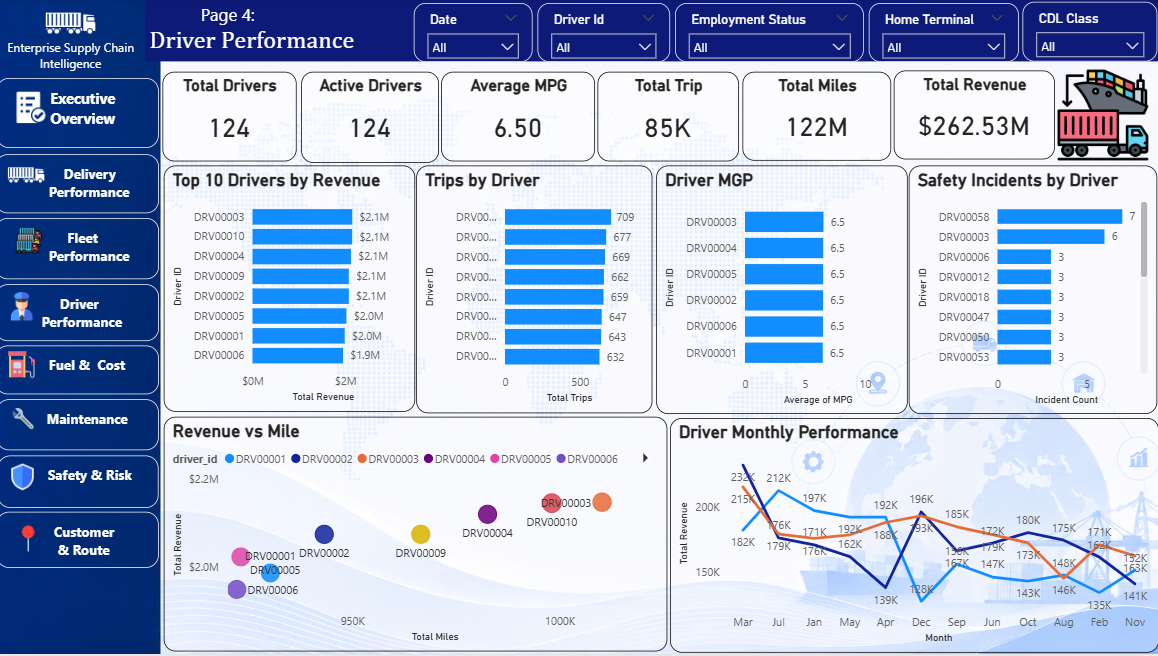

The dashboard page shown, as its layout file describes it:
{"tool":"powerbi","page":{"name":"Driver Performance","canvas":[1280,720],"ordinal":3},"visuals":[{"type":"slicer","fields":{"Values":["DimDrivers.employment_status"]},"box":[746.5,5.5,207.2,64.5],"z":0,"group":"g12"},{"type":"card","title":"Total Drivers","fields":{"Values":["All Measures.Total Drivers"]},"box":[183.9,81,146.8,98.8],"z":0,"group":"g10"},{"type":"group","id":"g1","title":"Group 1","box":[0,171.9,179.8,64.5],"z":0},{"type":"clusteredBarChart","title":"Top 10 Drivers by Revenue","fields":{"Category":["DimDrivers.driver_id"],"Y":["All Measures.Total Revenue"]},"box":[185.2,184.2,275.7,270.6],"z":0,"group":"g11"},{"type":"textbox","box":[2.7,502.6,177,57.6],"z":0,"group":"g4"},{"type":"image","box":[1.4,0,163.3,54.9],"z":1000,"group":"g3"},{"type":"slicer","fields":{"Values":["DimDrivers.driver_id"]},"box":[595.5,5.5,145.5,64.5],"z":1000,"group":"g12"},{"type":"card","title":"Average MPG","fields":{"Values":["All Measures.Average MPG"]},"box":[489.9,81,168.8,98.8],"z":1000,"group":"g10"},{"type":"group","id":"g2","title":"Group 3","box":[1.4,88.3,178.4,76.8],"z":1000},{"type":"clusteredBarChart","title":"Trips by Driver","fields":{"Category":["DimDrivers.driver_id"],"Y":["CountNonNull(FactLoadsTrips.raw_trips.trip_id)"]},"box":[462.4,183.9,259.6,271.8],"z":1000,"group":"g11"},{"type":"image","box":[10.9,510.8,38.4,30.2],"z":1000,"group":"g4"},{"type":"group","id":"g3","title":"Group 4","box":[1.4,0,163.3,87.8],"z":2000},{"type":"slicer","fields":{"Values":["DimDrivers.home_terminal"]},"box":[959.2,5.5,164.7,64.5],"z":2000,"group":"g12"},{"type":"textbox","box":[1.4,40.3,163.3,47.6],"z":2000,"group":"g3"},{"type":"card","title":"Total Miles","fields":{"Values":["All Measures.Total Miles"]},"box":[820.6,81,163.3,97.4],"z":2000,"group":"g10"},{"type":"clusteredBarChart","title":"Driver MGP","fields":{"Category":["DimDrivers.driver_id"],"Y":["All Measures.Average MPG"]},"box":[726.3,183.9,275.7,273.1],"z":2000,"group":"g11"},{"type":"slicer","fields":{"Values":["DimDrivers.cdl_class"]},"box":[1128,4.1,148.2,65.9],"z":3000,"group":"g12"},{"type":"card","title":"Active Drivers","fields":{"Values":["All Measures.Active Drivers"]},"box":[336.2,81,150.9,100.2],"z":3000,"group":"g10"},{"type":"group","id":"g4","title":"Group 7","box":[2.7,502.6,177,57.6],"z":3000},{"type":"textbox","box":[1.4,564.4,178.4,61.7],"z":3000,"group":"g6"},{"type":"slicer","fields":{"Values":["Dim_Date.Date Hierarchy.Date","Dim_Date.Date Hierarchy.Year","Dim_Date.Date Hierarchy.Month Name"]},"box":[459.7,5.5,130.4,64.5],"z":4000,"group":"g12"},{"type":"card","title":"Total Trip","fields":{"Values":["All Measures.Total Trips"]},"box":[661.4,81,155.1,98.8],"z":4000,"group":"g10"},{"type":"group","id":"g5","title":"Group 8","box":[1.4,440.9,178.4,56.3],"z":4000},{"type":"textbox","box":[1.4,440.9,178.4,56.3],"z":4000,"group":"g5"},{"type":"card","title":"Total Revenue","fields":{"Values":["All Measures.Total Revenue"]},"box":[986.6,79.6,177,97.4],"z":5000,"group":"g10"},{"type":"textbox","box":[0,382,179.8,53.4],"z":5000,"group":"g7"},{"type":"group","id":"g6","title":"Group 9","box":[1.4,564.4,178.4,61.7],"z":5000},{"type":"textbox","box":[1.4,88.3,178.4,76.8],"z":6000,"group":"g2"},{"type":"textbox","box":[0,314.2,179.8,62.5],"z":6000,"group":"g9"},{"type":"group","id":"g7","title":"Group 10","box":[0,380.5,179.8,54.9],"z":6000},{"type":"group","id":"g8","title":"Group 11","box":[0,241.8,179.8,67.2],"z":7000},{"type":"group","id":"g9","title":"Group 12","box":[0,314.2,179.8,62.5],"z":8000},{"type":"textbox","box":[164.7,0,1115.6,70],"z":9000},{"type":"image","box":[1152.7,76.8,127.6,102.9],"z":10000},{"type":"textbox","box":[0,241.8,179.8,67.2],"z":10000,"group":"g8"},{"type":"group","id":"g10","title":"Group 2","box":[183.9,79.6,979.8,101.5],"z":11000},{"type":"group","id":"g11","title":"Group 6","box":[185.2,183.9,816.8,273.1],"z":12000,"group":"g13"},{"type":"scatterChart","title":"Revenue vs Mile","fields":{"X":["All Measures.Total Miles"],"Y":["All Measures.Total Revenue"],"Series":["DimDrivers.driver_id"],"Size":["All Measures.Total Trips"]},"box":[185.2,459.7,553,258],"z":12000},{"type":"textbox","box":[0,171.9,179.8,64.5],"z":13000,"group":"g14"},{"type":"lineChart","title":"Driver Monthly Performance","fields":{"Y":["Sum(FactDriverMonthlyMetrics.total_revenue)"],"Series":["FactDriverMonthlyMetrics.driver_id"],"Category":["Dim_Date.Date Hierarchy.Month Name"]},"box":[741,461.1,536.5,258],"z":13000},{"type":"image","box":[15.5,102.8,48.5,34.8],"z":13003,"group":"g2"},{"type":"image","box":[1.4,174.6,65.9,39.8],"z":13007,"group":"g14"},{"type":"group","id":"g12","title":"Group 13","box":[459.7,4.1,816.5,65.9],"z":14000},{"type":"clusteredBarChart","title":"Safety Incidents by Driver","fields":{"Category":["DimDrivers.driver_id"],"Y":["All Measures.Incident Count"]},"box":[1003.4,183.9,272.7,273.1],"z":14000,"group":"g13"},{"type":"group","id":"g13","title":"Group 14","box":[185.2,183.9,1090.9,273.1],"z":15000},{"type":"group","id":"g14","title":"Group 5","box":[0,171.9,179.8,64.5],"z":27001,"group":"g1"},{"type":"image","box":[13.7,450.5,34.3,23.3],"z":27002,"group":"g5"},{"type":"image","box":[13.7,315.6,31.6,45.3],"z":27006,"group":"g9"},{"type":"image","box":[2.7,251.4,68.6,30.2],"z":27007,"group":"g8"},{"type":"image","box":[20.6,579.3,32,29.2],"z":27008,"group":"g6"},{"type":"image","box":[12.7,380.5,33.3,44],"z":27010,"group":"g7"}]}

Visuals, with their boxes on the page's 1280x720 design canvas (x1, y1, x2, y2). These are canvas units, not pixel positions in the 1158x656 screenshot, which may show the page scaled, cropped or inside an application window:
slicer - DimDrivers.employment_status: 746/6/954/70
"Total Drivers" card: 184/81/331/180
"Group 1" group: 0/172/180/236
"Top 10 Drivers by Revenue" clusteredBarChart: 185/184/461/455
textbox: 3/503/180/560
image: 1/0/165/55
slicer - DimDrivers.driver_id: 596/6/741/70
"Average MPG" card: 490/81/659/180
"Group 3" group: 1/88/180/165
"Trips by Driver" clusteredBarChart: 462/184/722/456
image: 11/511/49/541
"Group 4" group: 1/0/165/88
slicer - DimDrivers.home_terminal: 959/6/1124/70
textbox: 1/40/165/88
"Total Miles" card: 821/81/984/178
"Driver MGP" clusteredBarChart: 726/184/1002/457
slicer - DimDrivers.cdl_class: 1128/4/1276/70
"Active Drivers" card: 336/81/487/181
"Group 7" group: 3/503/180/560
textbox: 1/564/180/626
slicer - Dim_Date.Date Hierarchy.Date x Dim_Date.Date Hierarchy.Year: 460/6/590/70
"Total Trip" card: 661/81/816/180
"Group 8" group: 1/441/180/497
textbox: 1/441/180/497
"Total Revenue" card: 987/80/1164/177
textbox: 0/382/180/435
"Group 9" group: 1/564/180/626
textbox: 1/88/180/165
textbox: 0/314/180/377
"Group 10" group: 0/380/180/435
"Group 11" group: 0/242/180/309
"Group 12" group: 0/314/180/377
textbox: 165/0/1280/70
image: 1153/77/1280/180
textbox: 0/242/180/309
"Group 2" group: 184/80/1164/181
"Group 6" group: 185/184/1002/457
"Revenue vs Mile" scatterChart: 185/460/738/718
textbox: 0/172/180/236
"Driver Monthly Performance" lineChart: 741/461/1278/719
image: 16/103/64/138
image: 1/175/67/214
"Group 13" group: 460/4/1276/70
"Safety Incidents by Driver" clusteredBarChart: 1003/184/1276/457
"Group 14" group: 185/184/1276/457
"Group 5" group: 0/172/180/236
image: 14/450/48/474
image: 14/316/45/361
image: 3/251/71/282
image: 21/579/53/608
image: 13/380/46/424
